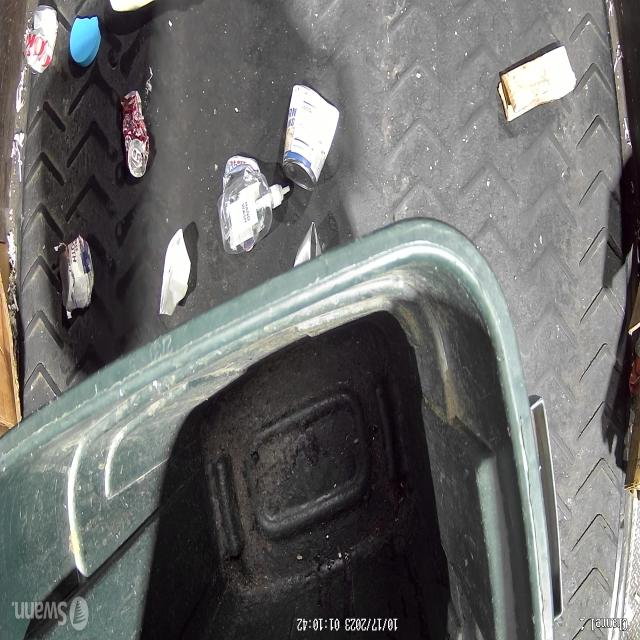can: (283, 86, 340, 192), (119, 89, 150, 178), (21, 4, 58, 76), (59, 234, 93, 311), (294, 222, 324, 264)
